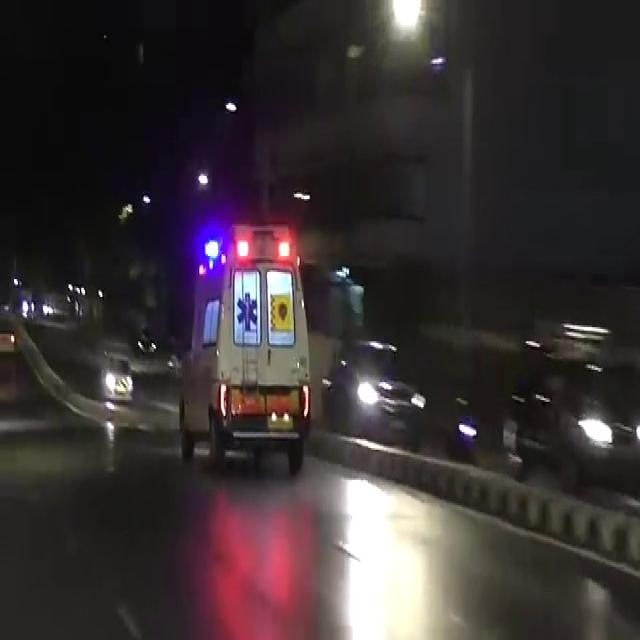ambulance: (182, 230, 313, 456)
